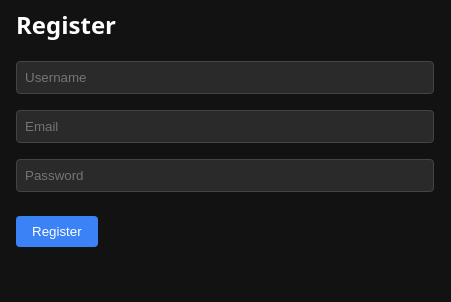
Test: Register › shows generic error when credentials are already taken
This screenshot has width=451, height=302.
Type "alice" into the field with placeholder "Username" at (225, 77), box left=16, top=61, right=434, bottom=94
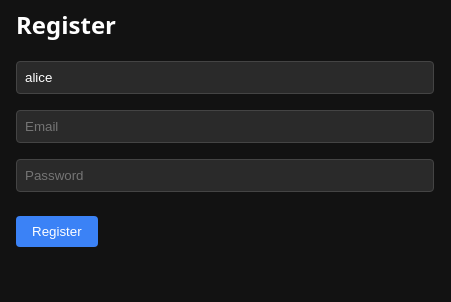
Type "alice@test.com" into the field with placeholder "Email" at (225, 126), box left=16, top=110, right=434, bottom=143
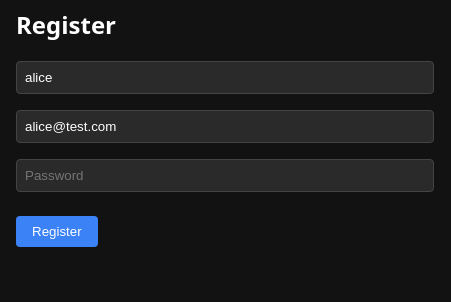
Type "pass123" into the password field with placeholder "Password" at (225, 175), box left=16, top=159, right=434, bottom=192
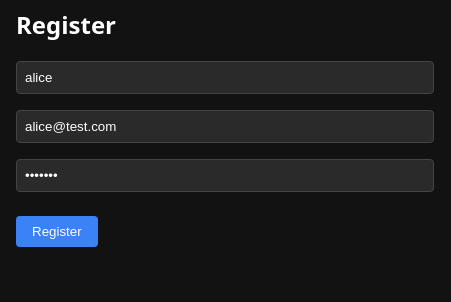
Click the button "Register" at (57, 231), box left=16, top=216, right=98, bottom=247
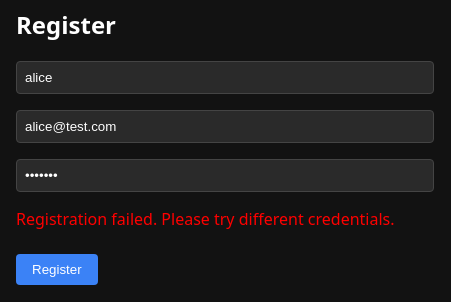
expect the text "Registration failed. Please try different credentials." is shown: met, box left=16, top=208, right=416, bottom=230
